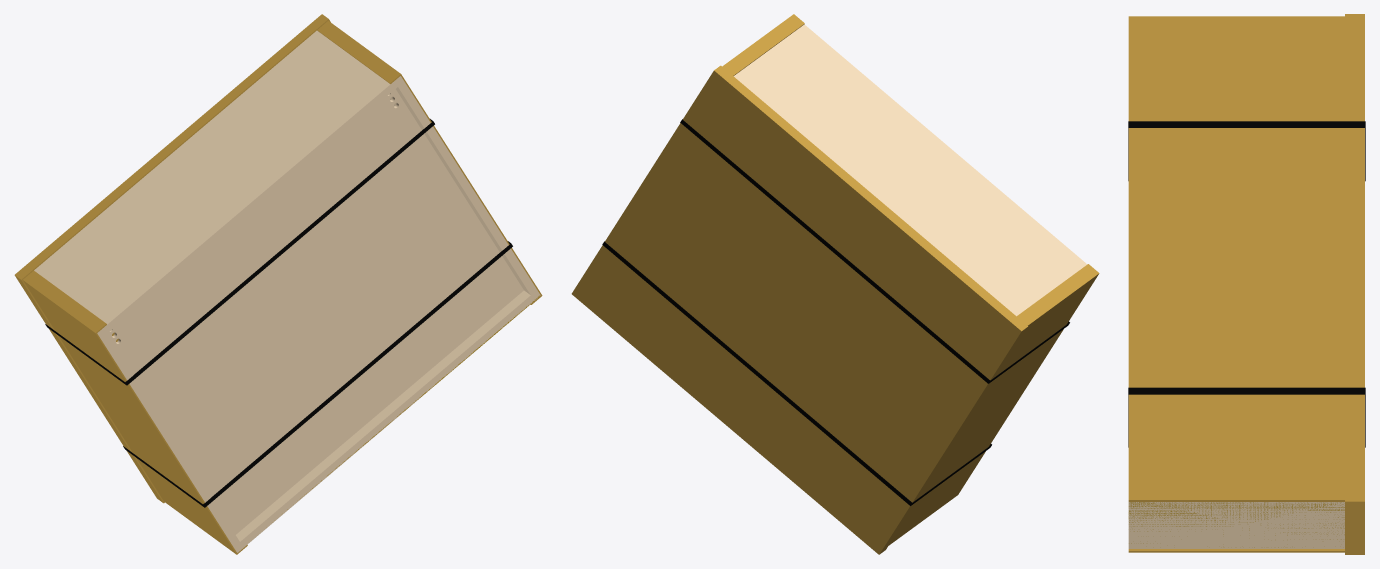
Rendered from haut.glb.
3 views of the same model, side by side, from view 1: azimuth 30°, elevation 25°; view 2: azimuth 150°, elevation 25°; view 3: azimuth 270°, elevation 25° (orthographic). The views are drawn at different scales.
Visible parts, largest first — view 1: Part 1, Part 3 (×2), Part 4, Part 5 (×2); view 2: Part 4, Part 1, Part 3 (×2), Part 5 (×2); view 3: Part 3 (×2), Part 4, Part 1, Part 5 (×2), Part 2.
Boxes of the visible parts, bbox=[...] form: Part 1: bbox=[34, 30, 540, 552]; Part 3 (×2): bbox=[23, 21, 542, 554]; Part 4: bbox=[14, 14, 330, 503]; Part 5 (×2): bbox=[45, 119, 512, 507]; Part 4: bbox=[571, 65, 1027, 554]; Part 1: bbox=[733, 24, 1087, 316]; Part 3 (×2): bbox=[722, 14, 1099, 545]; Part 5 (×2): bbox=[602, 119, 1069, 505]; Part 3 (×2): bbox=[1128, 16, 1344, 552]; Part 4: bbox=[1345, 14, 1364, 554]; Part 1: bbox=[1128, 502, 1344, 548]; Part 5 (×2): bbox=[1128, 121, 1365, 447]; Part 2: bbox=[1128, 502, 1344, 547].
Bounding box in the file's own units: 1.16 × 1.09 × 0.355.
